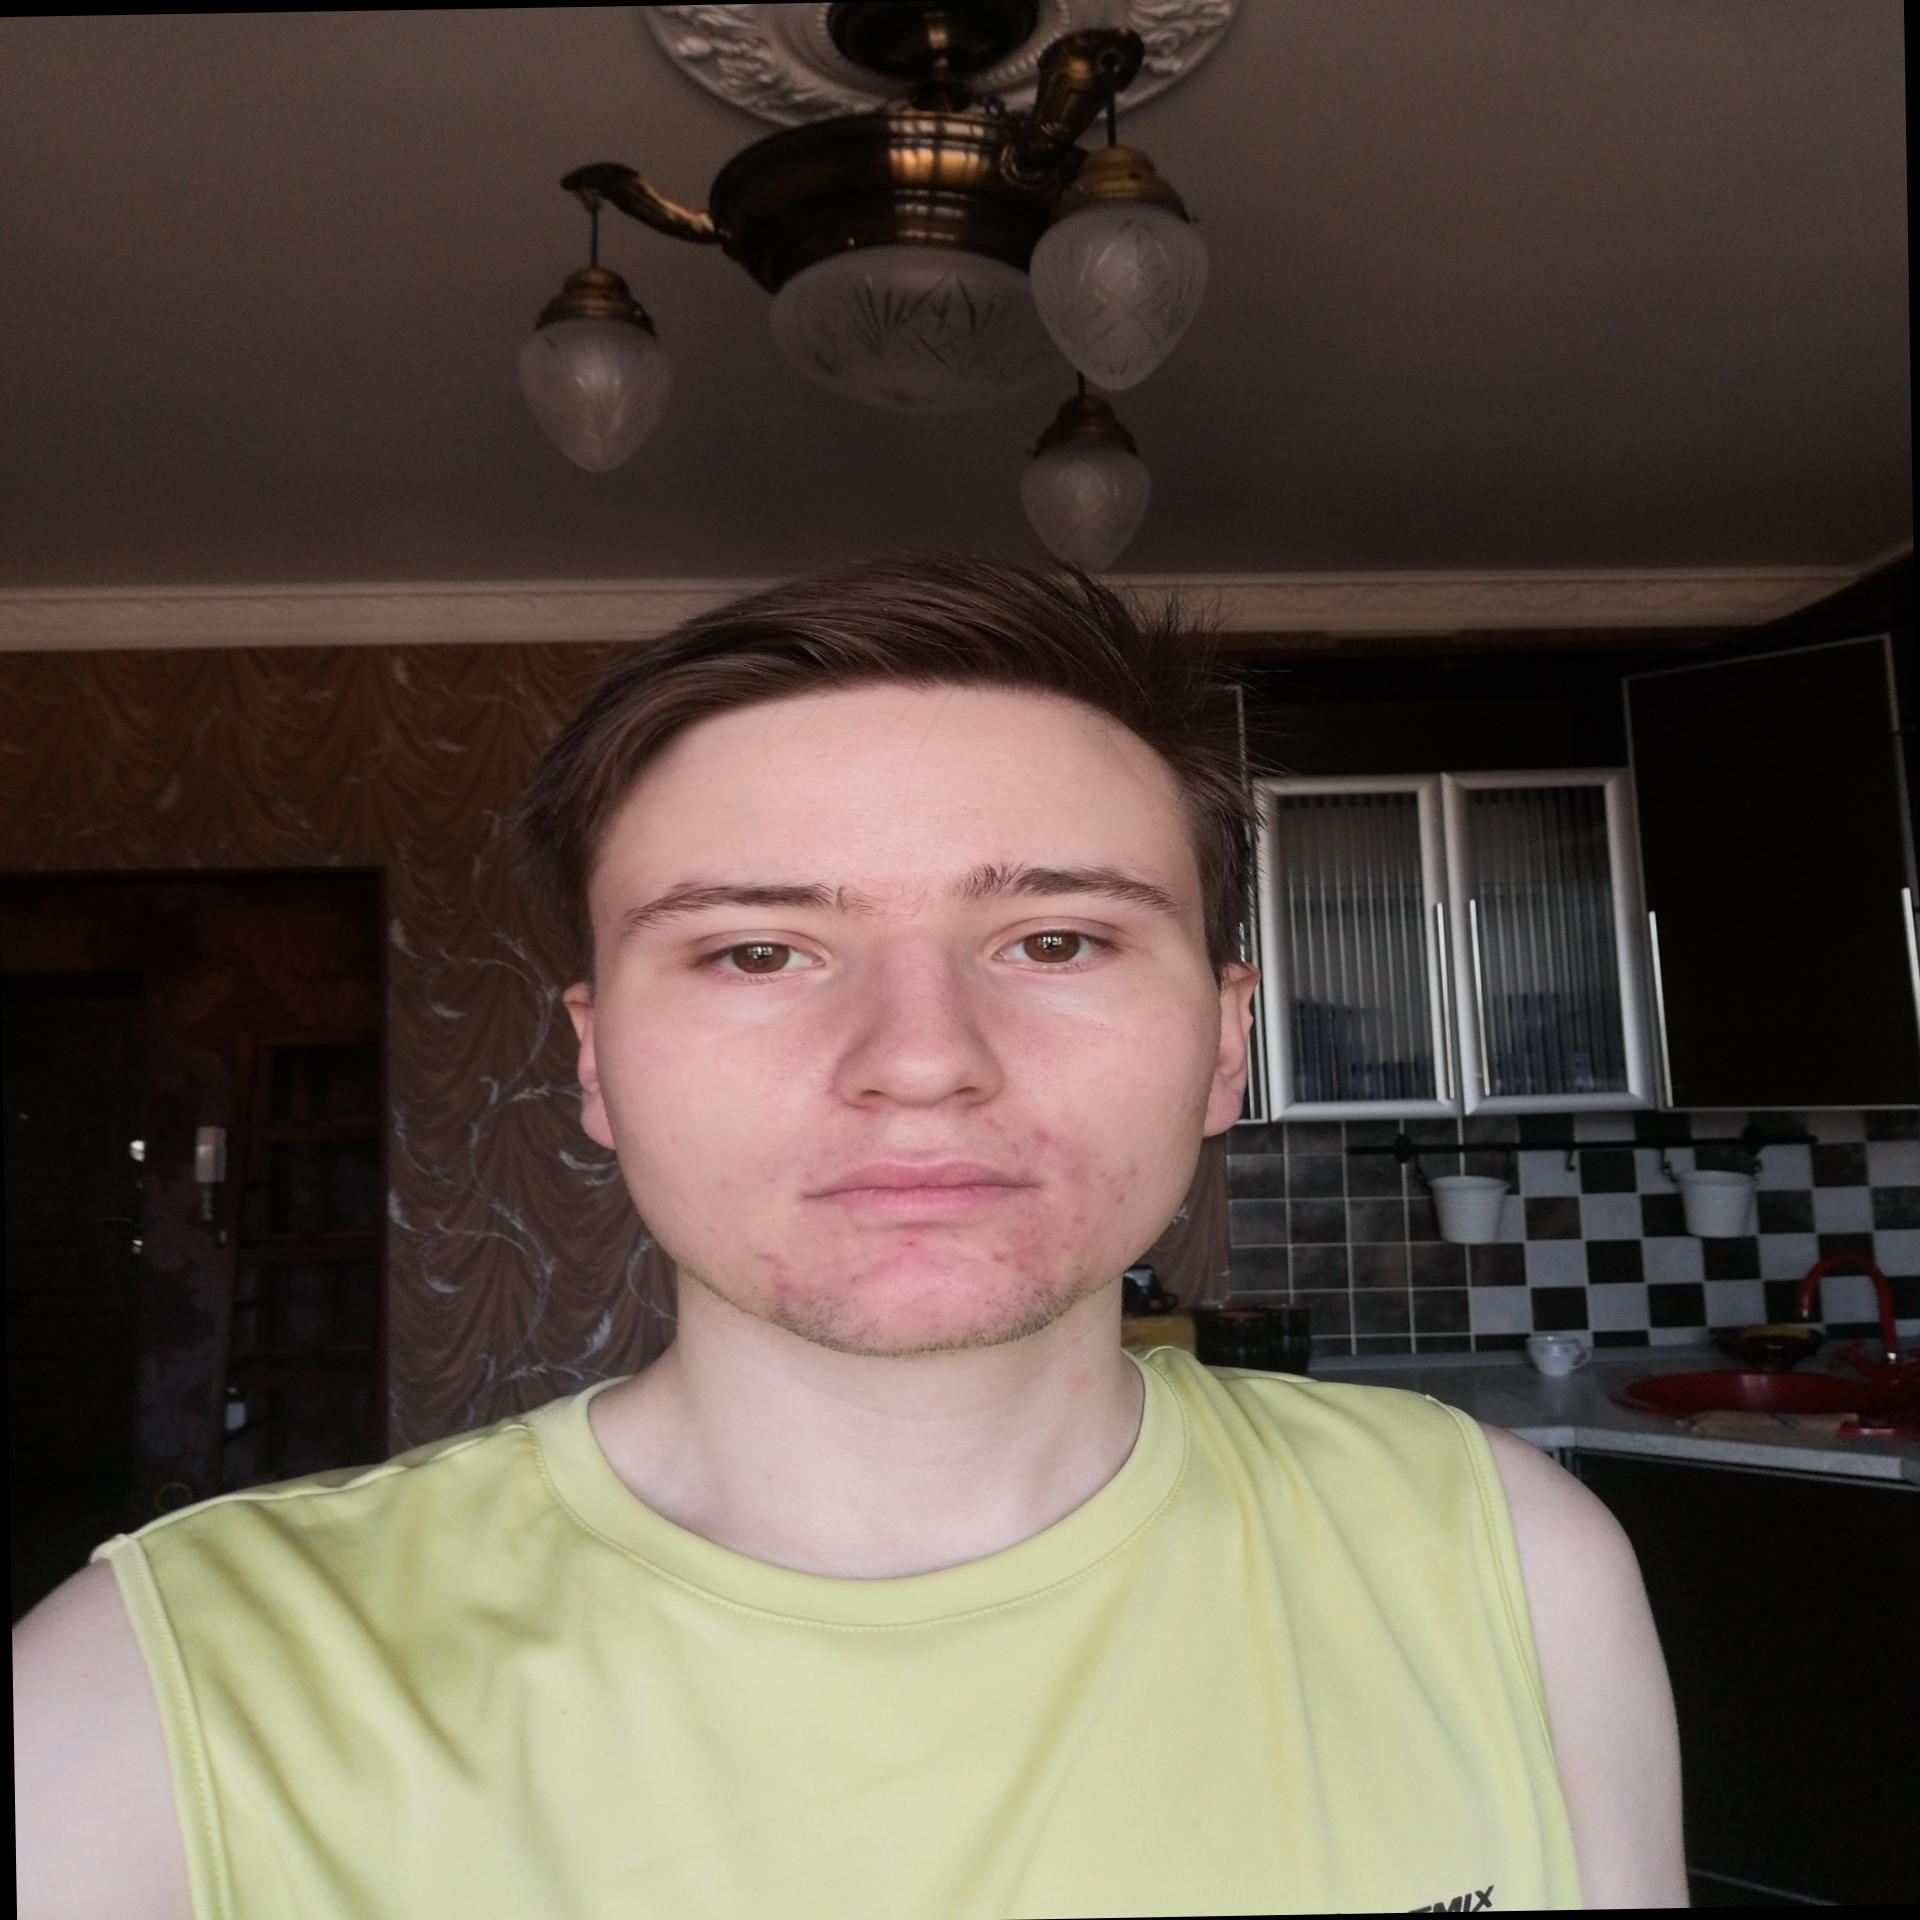Acne: (751, 1250, 800, 1298), (1013, 1240, 1041, 1276), (716, 1171, 742, 1192), (1088, 1162, 1116, 1182), (900, 1233, 923, 1252), (812, 1143, 833, 1159), (1030, 1125, 1048, 1143), (795, 1166, 816, 1180), (1071, 1211, 1088, 1227), (979, 1113, 997, 1129), (1016, 1169, 1034, 1185), (846, 1269, 867, 1282), (1113, 1192, 1129, 1206), (990, 1250, 1004, 1264), (1006, 1138, 1020, 1152), (1124, 1159, 1139, 1171)
Englarged Pores: (753, 1027, 830, 1113), (997, 1013, 1074, 1088), (893, 979, 949, 1053)
